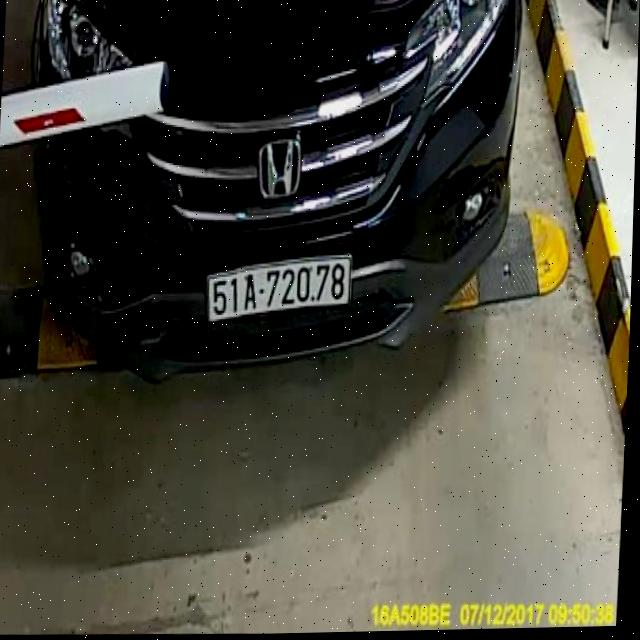car: (2, 0, 538, 399)
plate: (203, 253, 353, 327)
